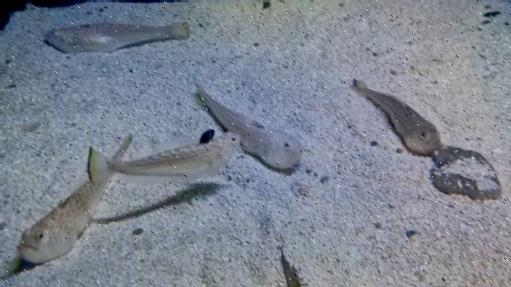Fish: (197, 84, 303, 169), (17, 174, 111, 263), (88, 133, 239, 183), (353, 79, 442, 155), (44, 22, 189, 53), (280, 246, 301, 286), (199, 129, 214, 143)
